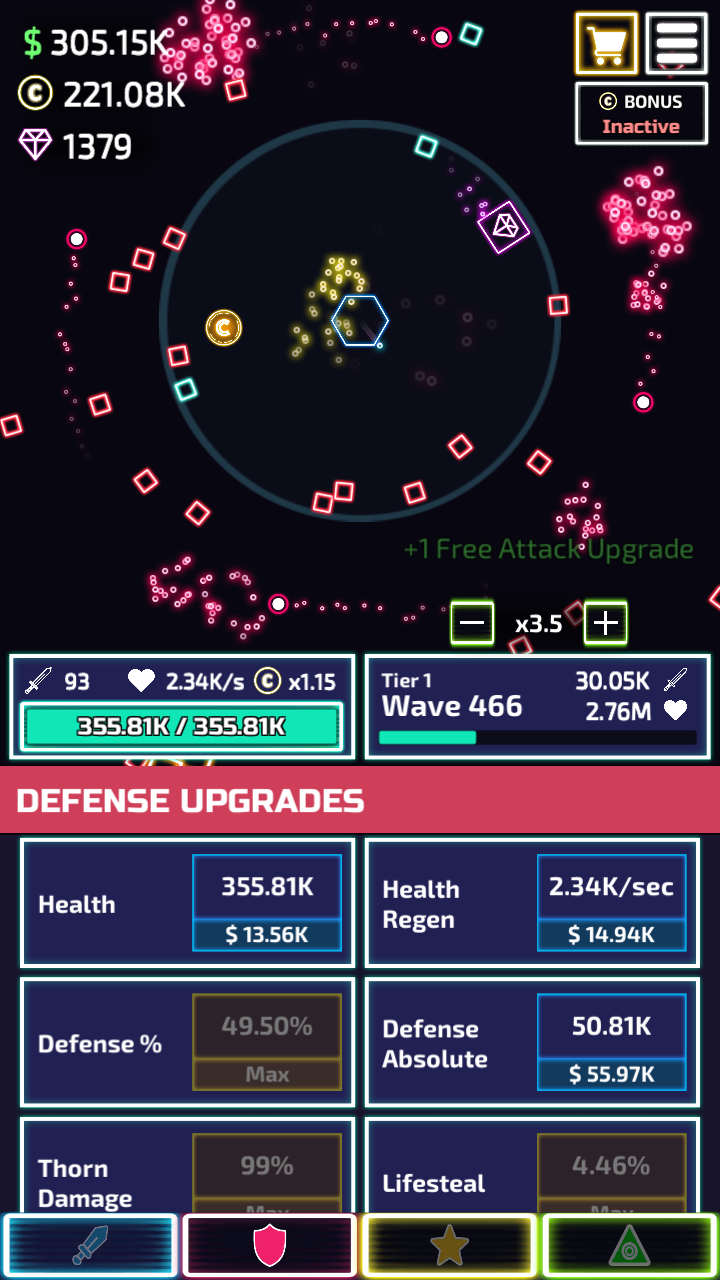B_Floating_Gem: (475, 198, 534, 255)
B_Menu_Closed: (568, 4, 707, 82)
B_Slot: (365, 840, 698, 961), (23, 981, 356, 1102), (369, 979, 694, 1102), (20, 840, 352, 958), (20, 1116, 352, 1207), (369, 1122, 696, 1203)
B_Slot_Button: (190, 995, 345, 1095), (185, 855, 345, 951), (534, 999, 684, 1097), (532, 860, 689, 951), (190, 1136, 340, 1209), (538, 1138, 684, 1211)
B_Slot_Label: (370, 1011, 502, 1081), (25, 1020, 171, 1068), (370, 867, 466, 936), (27, 1154, 141, 1211), (25, 879, 139, 928), (370, 1161, 506, 1202)
B_Slot_Maxed: (187, 992, 344, 1095), (183, 1136, 336, 1212), (534, 1139, 684, 1207)
B_Slot_Price: (557, 922, 664, 952), (208, 919, 317, 947), (561, 1063, 664, 1091)
B_Slot_Value: (196, 1004, 326, 1049), (538, 869, 680, 908), (207, 863, 320, 908), (554, 1145, 666, 1186), (557, 1009, 660, 1047), (219, 1150, 304, 1184)
B_Tab_Defense: (0, 773, 717, 831)
